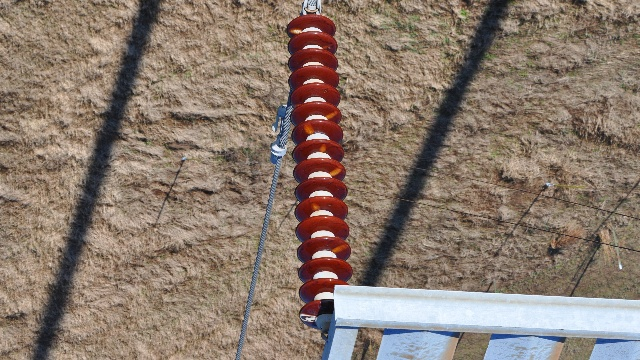insulator_unspecified: (284, 16, 347, 329)
pollution_flashover_local: (333, 243, 349, 254), (300, 313, 317, 323), (303, 121, 314, 134), (330, 166, 342, 176), (326, 111, 338, 120), (289, 27, 302, 34), (311, 202, 320, 211), (320, 144, 326, 153)
